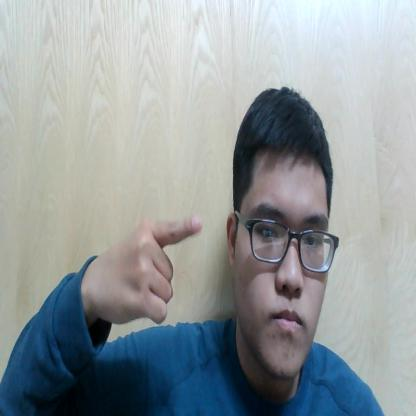left: (111, 211, 208, 329)
